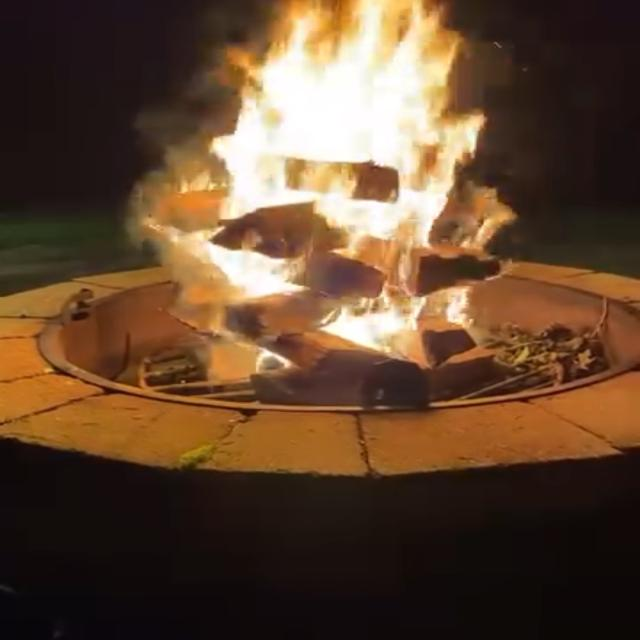fire: (144, 0, 516, 385)
